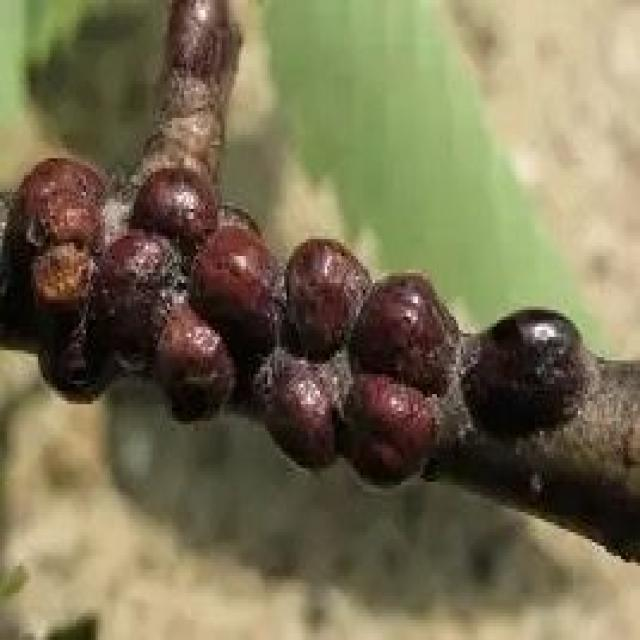Black Scale: (17, 158, 454, 482), (466, 307, 587, 435), (162, 0, 241, 84)
